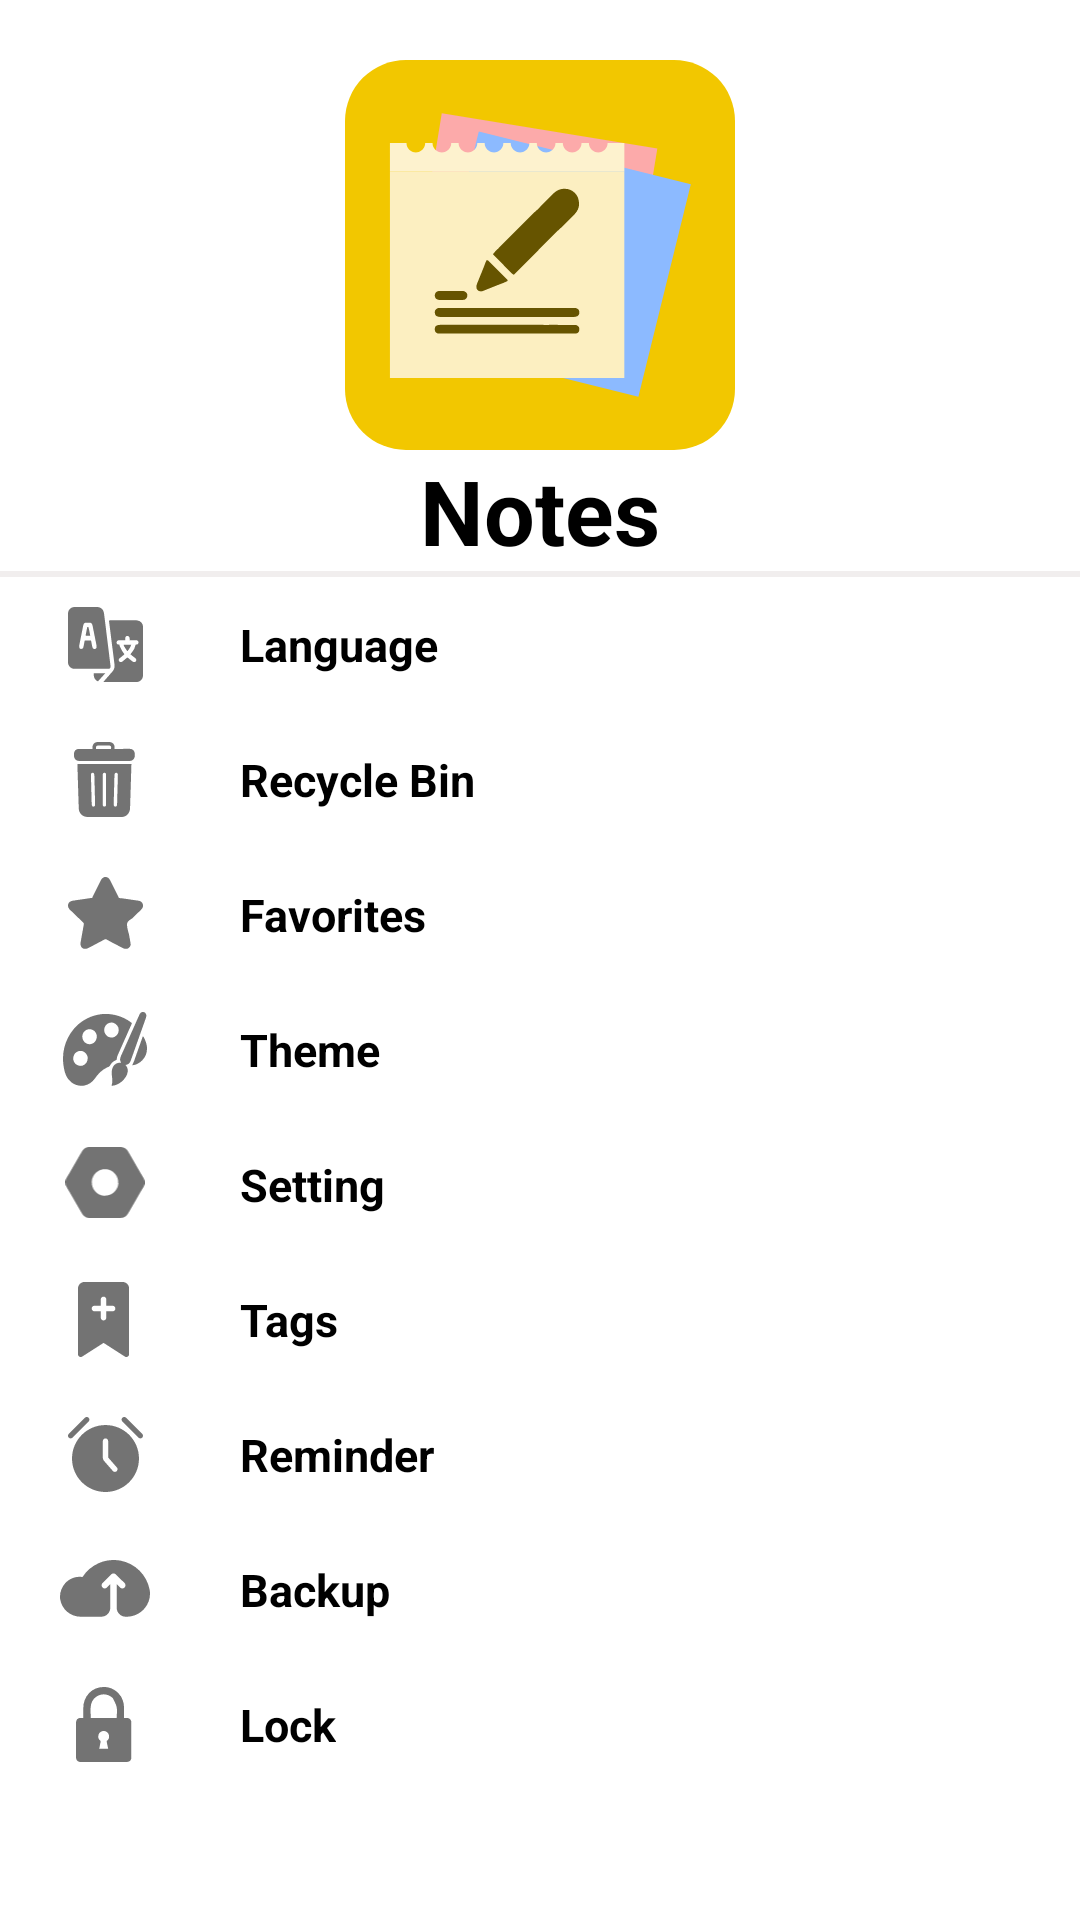

Screen size 1080*1920. Icon name, then its center in pixels as (x,y):
langauge: (105,644)
